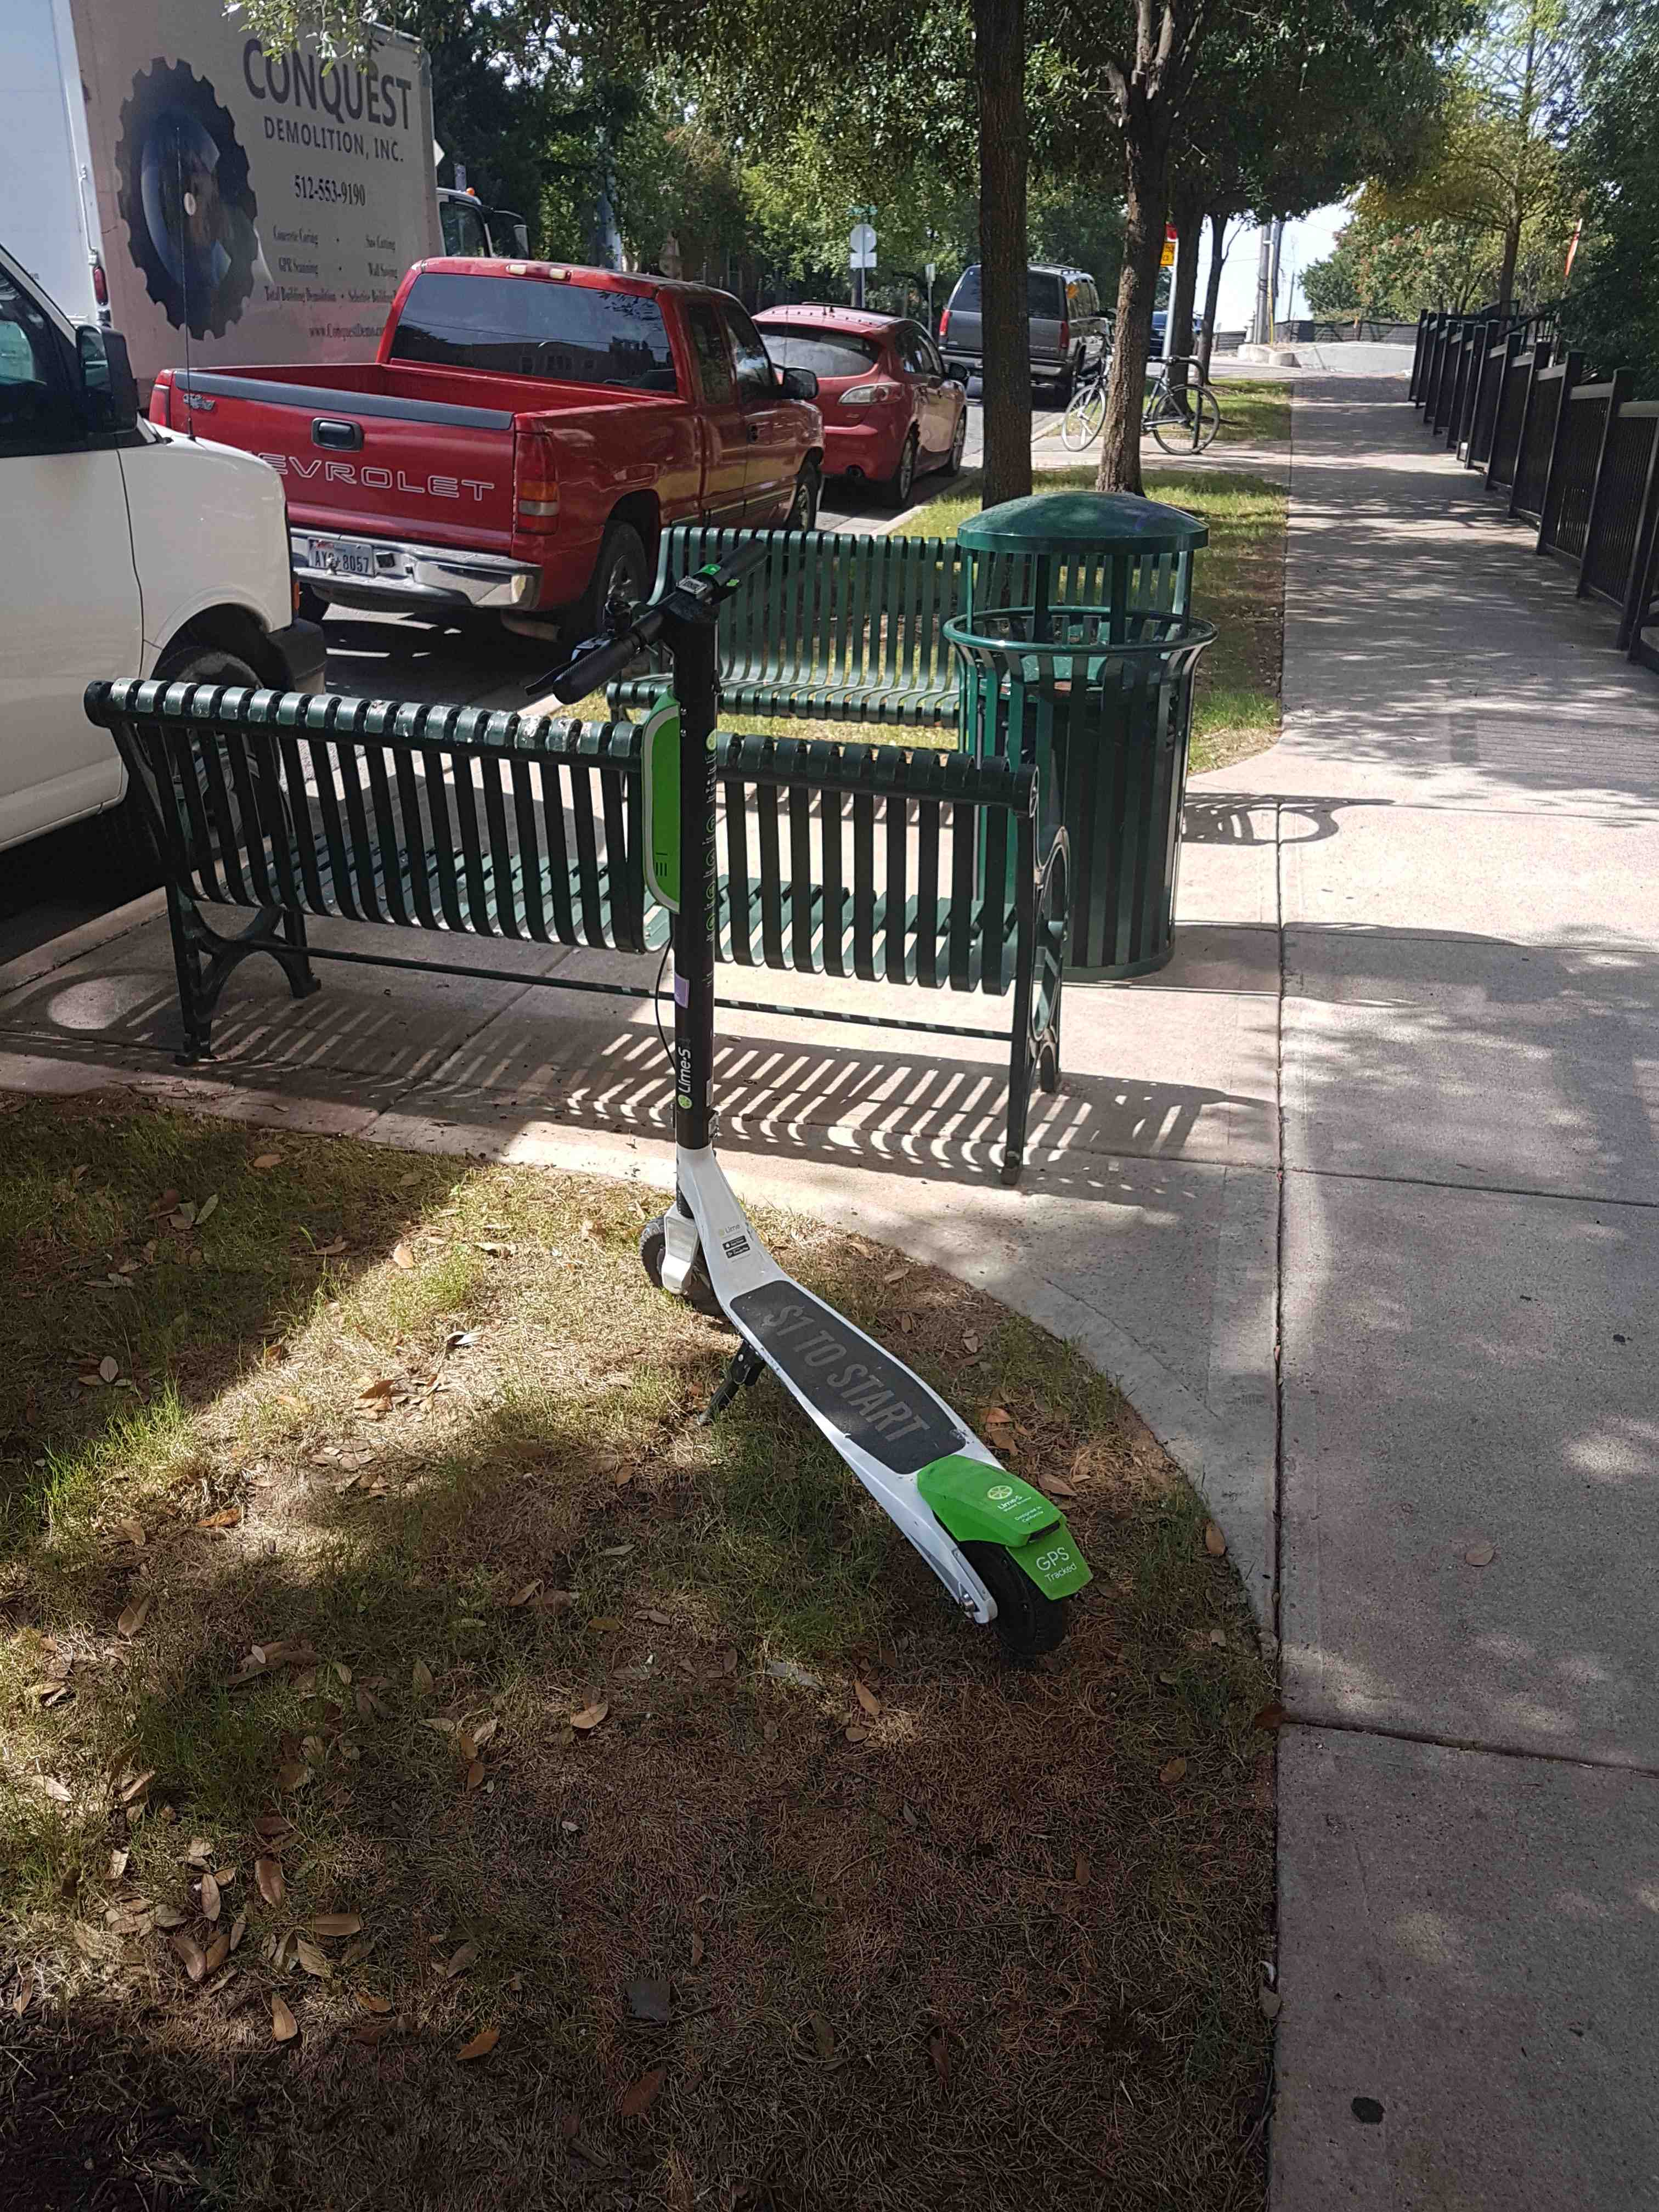scooter: (432, 484, 1131, 1679)
